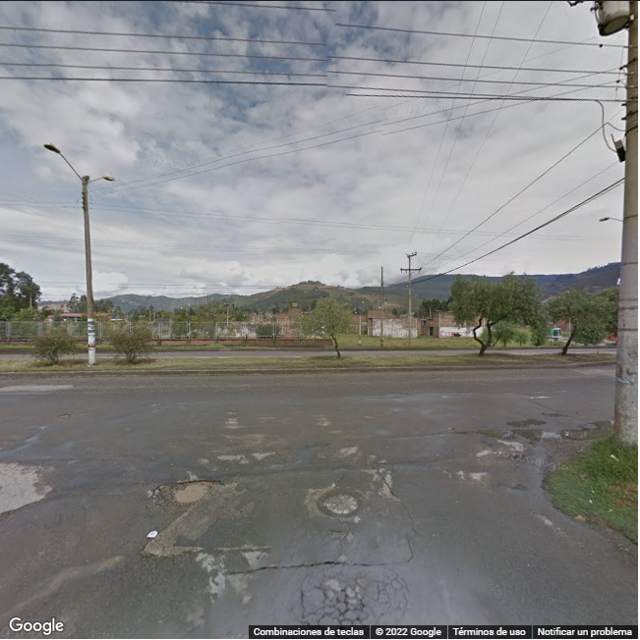D00: (369, 458, 418, 536)
D10: (228, 557, 420, 574)
D20: (289, 568, 413, 621)
D40: (167, 470, 213, 509)
